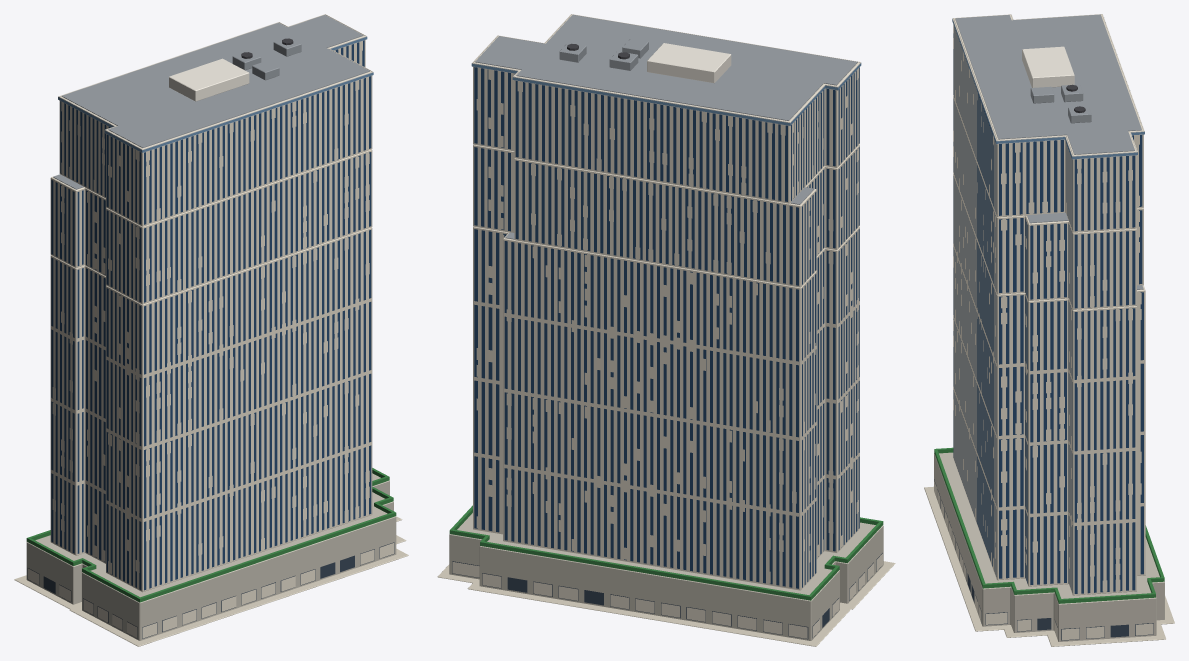
File: embarcadero-center-3.glb
The picture shows the model from 3 angles, left to right: view 1: azimuth 30°, elevation 25°; view 2: azimuth 150°, elevation 25°; view 3: azimuth 270°, elevation 25°; orthographic projection. The views are drawn at different scales.
Parts seen in each view (by area): view 1: embarcadero-center-3_body, embarcadero-center-3_night_glow; view 2: embarcadero-center-3_body, embarcadero-center-3_night_glow; view 3: embarcadero-center-3_body, embarcadero-center-3_night_glow.
Boxes of the visible parts, left/top/right/bottom form: embarcadero-center-3_body: left=14, top=14, right=408, bottom=646; embarcadero-center-3_night_glow: left=28, top=37, right=394, bottom=638; embarcadero-center-3_body: left=437, top=14, right=895, bottom=646; embarcadero-center-3_night_glow: left=452, top=63, right=882, bottom=638; embarcadero-center-3_body: left=924, top=14, right=1174, bottom=646; embarcadero-center-3_night_glow: left=934, top=19, right=1153, bottom=640.
Size of the model in its own units: 94.1 by 126 by 58.4.
